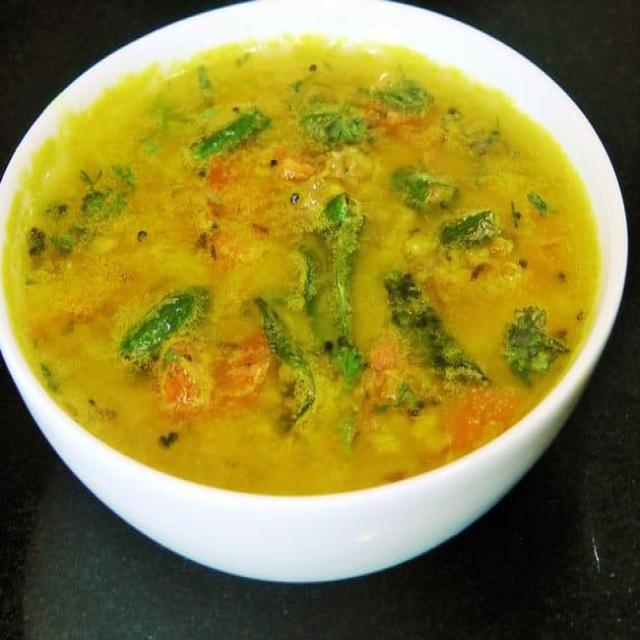dal: (8, 46, 599, 493)
